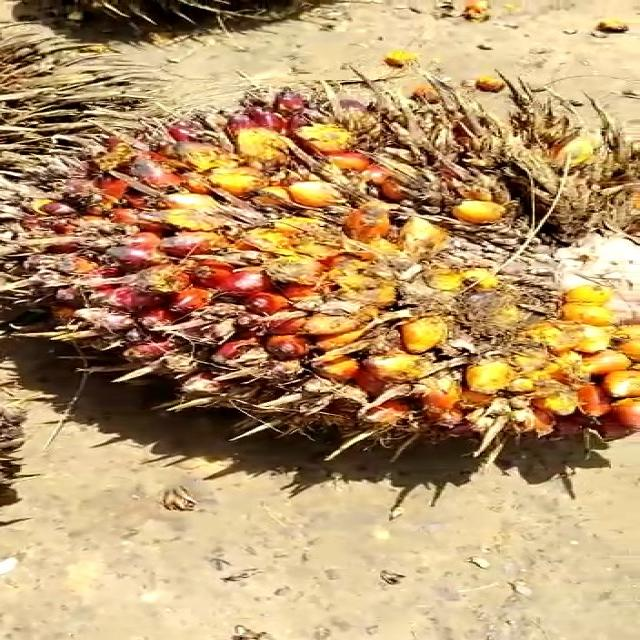palm oil: (41, 59, 640, 471)
